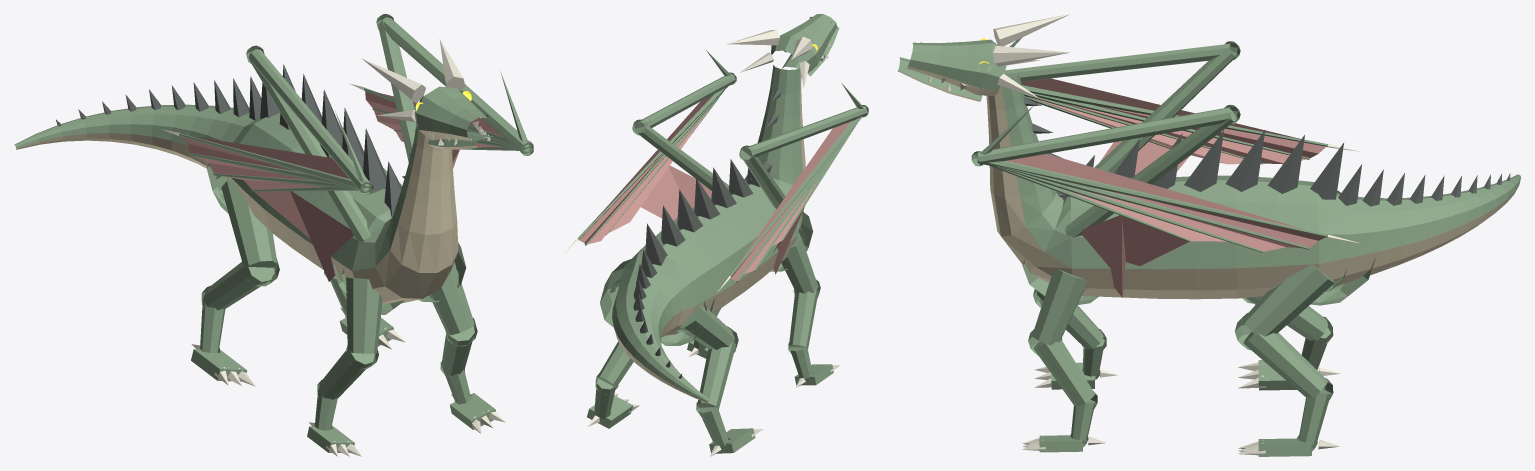
Rendered from dragons-and-wyverns-western-dragon-perched-e2290b82__36698.glb.
3 renders of one model, left to right at view 1: azimuth 30°, elevation 25°; view 2: azimuth 150°, elevation 25°; view 3: azimuth 270°, elevation 25°, orthographic. The views are drawn at different scales.
Visible parts, largest first — view 1: western-dragon-perched; view 2: western-dragon-perched; view 3: western-dragon-perched.
Part boxes in pixels (left/top/right/bottom): western-dragon-perched: left=14, top=14, right=533, bottom=456; western-dragon-perched: left=563, top=14, right=868, bottom=456; western-dragon-perched: left=897, top=14, right=1520, bottom=456.
Bounding box in the file's own units: 2.44 × 3.51 × 5.12.
